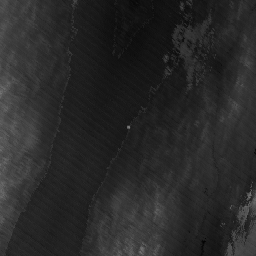Target: (124, 124, 131, 130)
